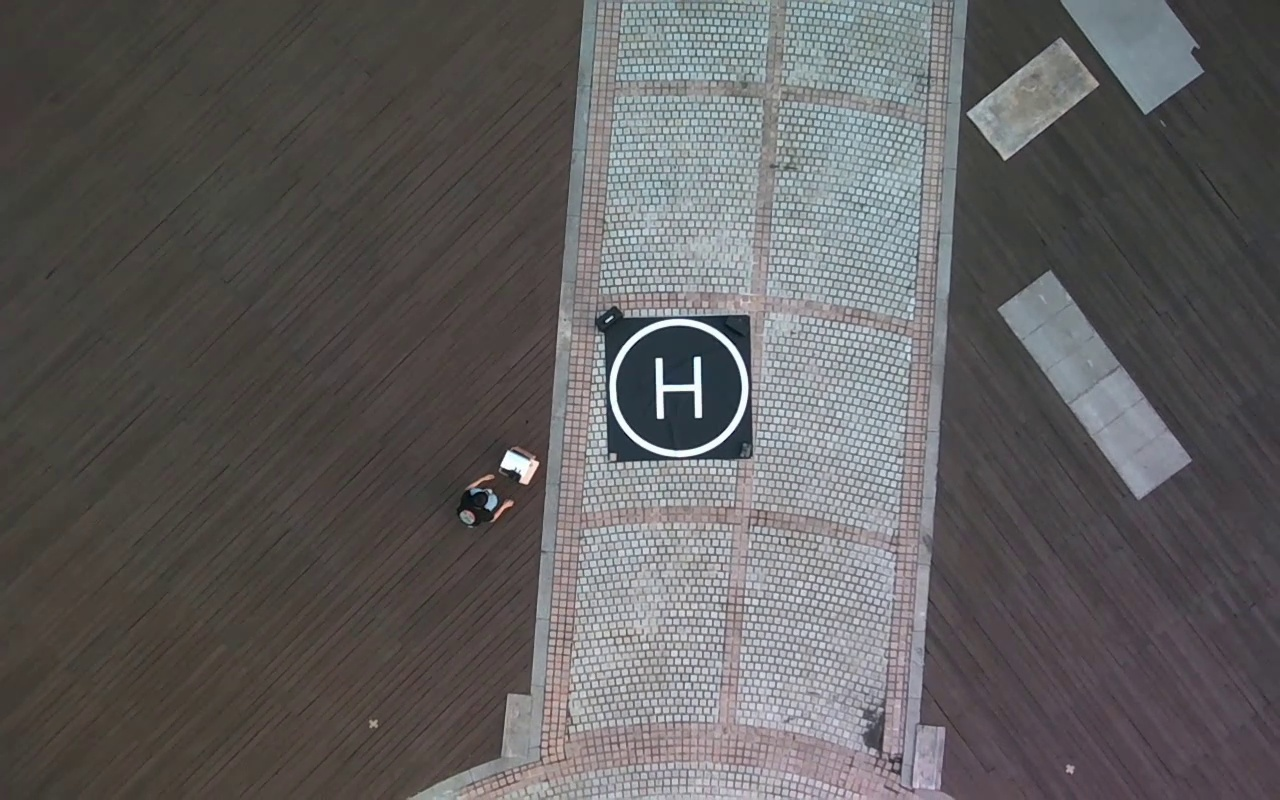H: (652, 353, 704, 421)
heliport: (610, 320, 749, 458)
